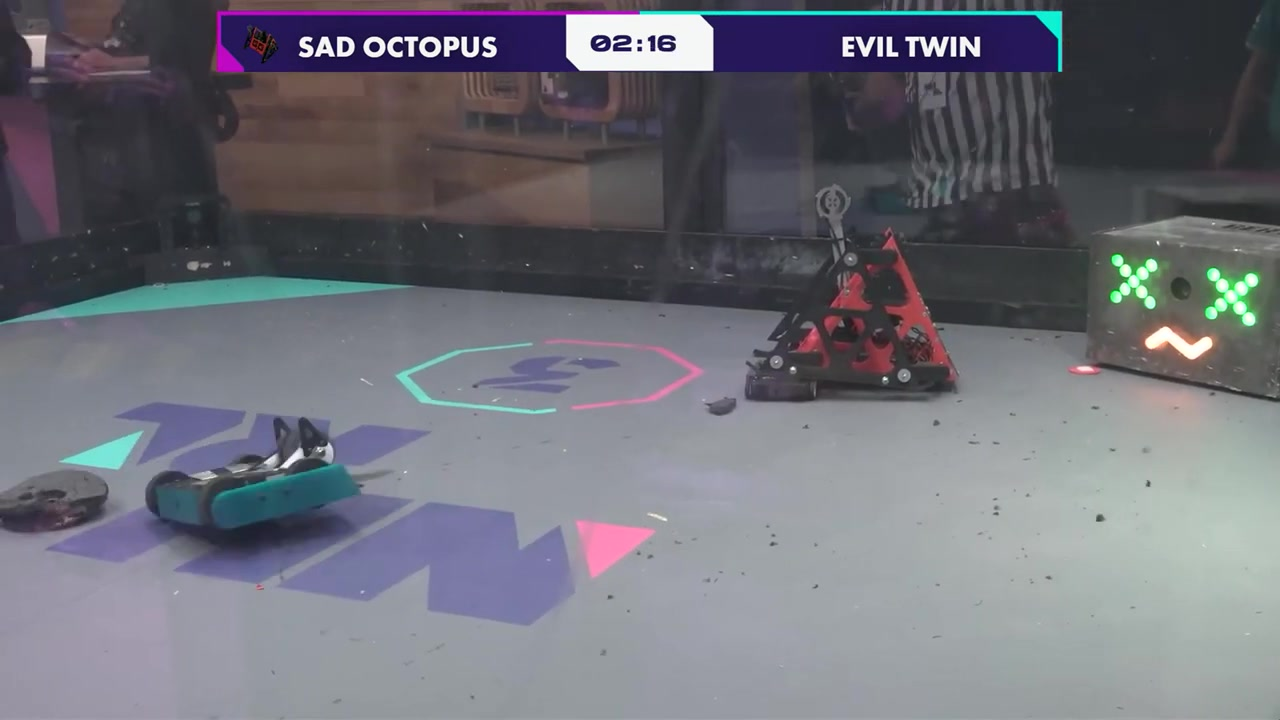combatbot: (736, 233, 951, 406), (144, 451, 362, 533)
housebot: (1082, 211, 1280, 409)
minibot: (0, 464, 110, 538), (760, 370, 817, 401)
